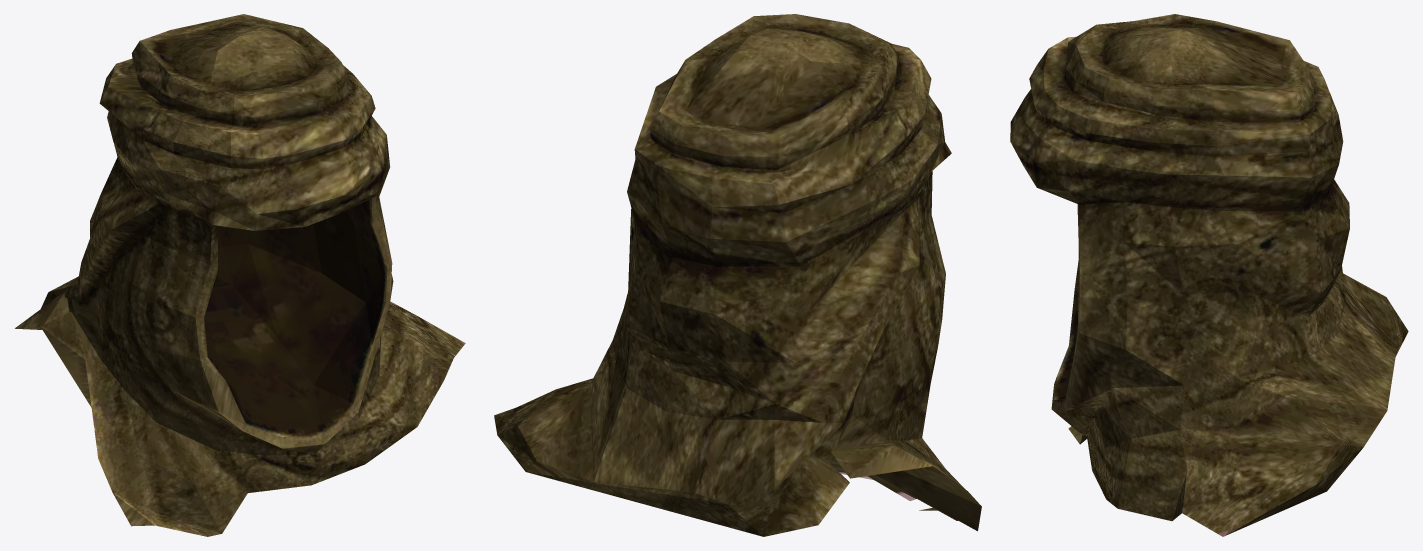
File: HELMET_BANDAGE_04.glb
3 views of the same model, side by side, from view 1: azimuth 30°, elevation 25°; view 2: azimuth 150°, elevation 25°; view 3: azimuth 270°, elevation 25° (orthographic). The views are drawn at different scales.
Visible parts, largest first — view 1: HELMET_BANDAGE_04; view 2: HELMET_BANDAGE_04; view 3: HELMET_BANDAGE_04.
Part boxes in pixels (x1,y1,x2,y2): HELMET_BANDAGE_04: (15, 14, 465, 536); HELMET_BANDAGE_04: (494, 14, 981, 536); HELMET_BANDAGE_04: (1010, 14, 1408, 536).
Size of the model in its own units: 0.3993 by 0.425 by 0.342.
Materials: 1 (1 with a texture image).
